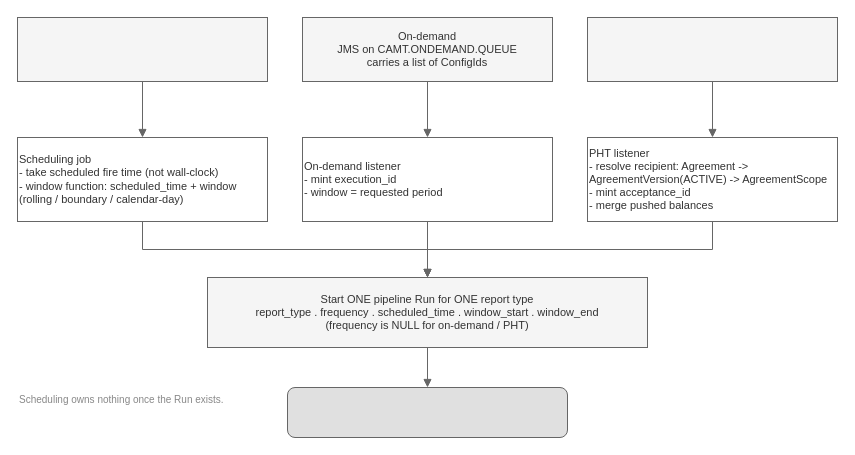
Some shapes in this 855 by 455 pixel diagram are drawn without their labels. The shapes that lost their labels are listed below. From the top down, each one's box as (x1, y1, x2, y2) in pixels, then its label:
(16, 16, 268, 82): Scheduled trigger Quartz CronTrigger fires clustered - one pod picks it up
(586, 16, 838, 82): PHT balance push JMS on CAMT.PHT.QUEUE fixed-width body, account balances
(286, 386, 568, 438): Message-production pipeline see pipeline-flow.drawio
